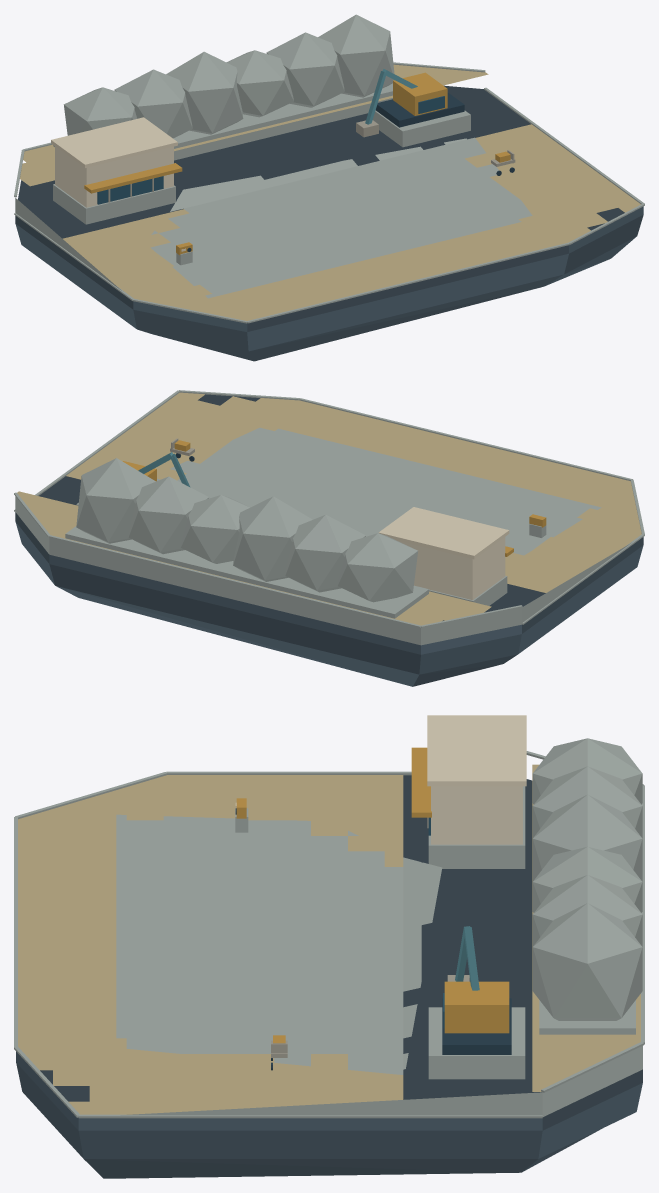
File: fi14-quarry-yard.glb
3 renders of one model, top to bottom at view 1: azimuth 30°, elevation 25°; view 2: azimuth 150°, elevation 25°; view 3: azimuth 270°, elevation 25°, orthographic. The views are drawn at different scales.
Visible parts, largest first — view 1: GEO_foundation, GEO_forecourt, GEO_ground, LAND_0_rockwall, LAND_2_shed, LAND_1_excavator, GEO_rim; view 2: GEO_ground, LAND_0_rockwall, GEO_foundation, GEO_forecourt, GEO_rim, LAND_2_shed, LAND_1_excavator; view 3: GEO_forecourt, GEO_ground, GEO_foundation, LAND_0_rockwall, LAND_2_shed, GEO_rim, LAND_1_excavator.
Part boxes in pixels (box(x1,y1,x2,y2)): GEO_foundation: box(15, 85, 643, 361); GEO_forecourt: box(150, 137, 532, 298); GEO_ground: box(20, 64, 640, 320); LAND_0_rockwall: box(53, 14, 394, 160); LAND_2_shed: box(51, 117, 182, 224); LAND_1_excavator: box(356, 69, 470, 147); GEO_rim: box(14, 62, 644, 323); GEO_ground: box(17, 392, 641, 625); LAND_0_rockwall: box(65, 458, 428, 618); GEO_foundation: box(15, 394, 643, 686); GEO_forecourt: box(157, 427, 601, 555); GEO_rim: box(14, 390, 644, 645); LAND_2_shed: box(378, 507, 513, 605); LAND_1_excavator: box(76, 452, 190, 505); GEO_forecourt: box(116, 814, 442, 1074); GEO_ground: box(18, 764, 640, 1114); GEO_foundation: box(16, 775, 642, 1178); LAND_0_rockwall: box(532, 738, 642, 1034); LAND_2_shed: box(411, 715, 526, 868); GEO_rim: box(14, 751, 644, 1118); LAND_1_excavator: box(428, 926, 525, 1079).
Bounding box in the file's own units: 44.22 × 12.68 × 34.22.
